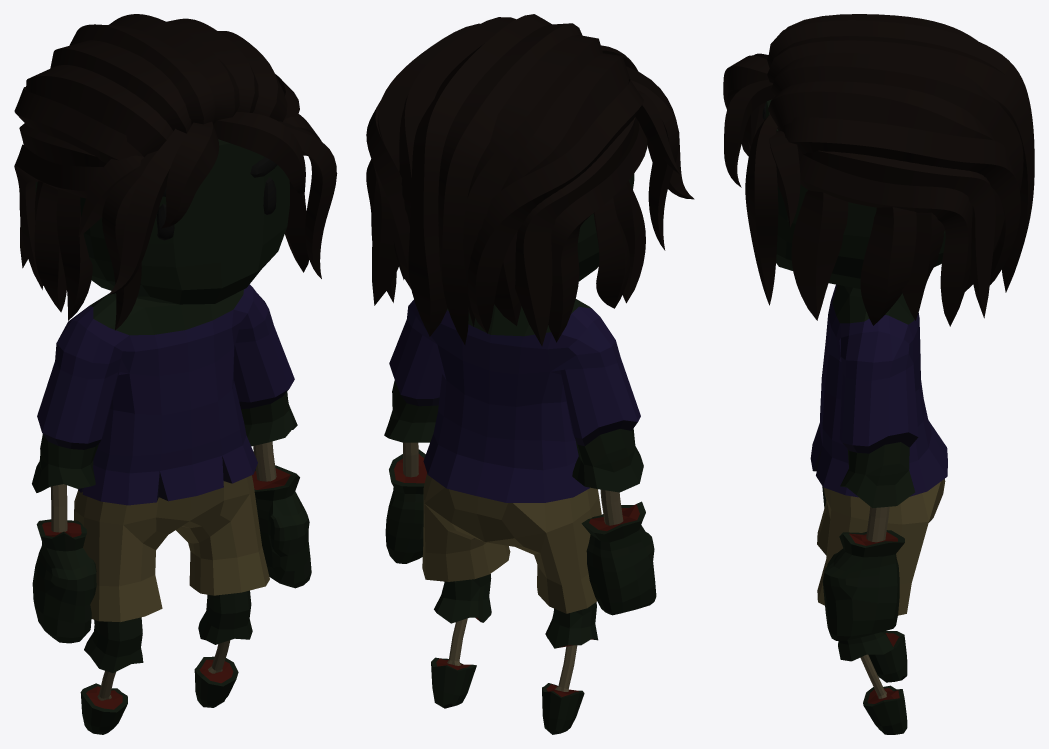
The model's file is Zombie_Female.obj.
3 views of the same model, side by side, from view 1: azimuth 30°, elevation 25°; view 2: azimuth 150°, elevation 25°; view 3: azimuth 270°, elevation 25° (orthographic). The views are drawn at different scales.
Parts seen in each view (by area): view 1: Body_Cube.004; view 2: Body_Cube.004; view 3: Body_Cube.004.
Part boxes in pixels (bbox=[...]): Body_Cube.004: bbox=[14, 14, 337, 734]; Body_Cube.004: bbox=[366, 14, 694, 734]; Body_Cube.004: bbox=[723, 14, 1034, 734].
Bounding box in the file's own units: 1.28 × 3.16 × 1.32.
